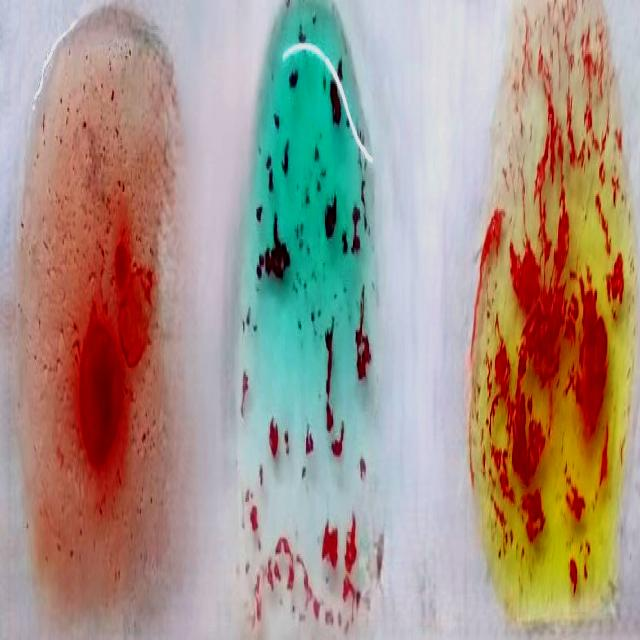A: (244, 2, 372, 640)
B: (472, 8, 632, 640)
D: (21, 26, 168, 640)
